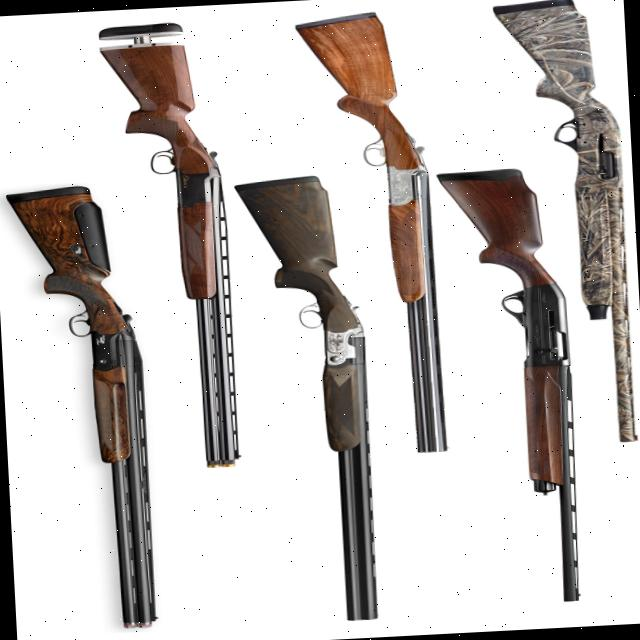Shotgun: (295, 10, 446, 458), (489, 0, 635, 446), (20, 216, 161, 640), (448, 168, 582, 603), (108, 21, 240, 456), (252, 186, 377, 631)
